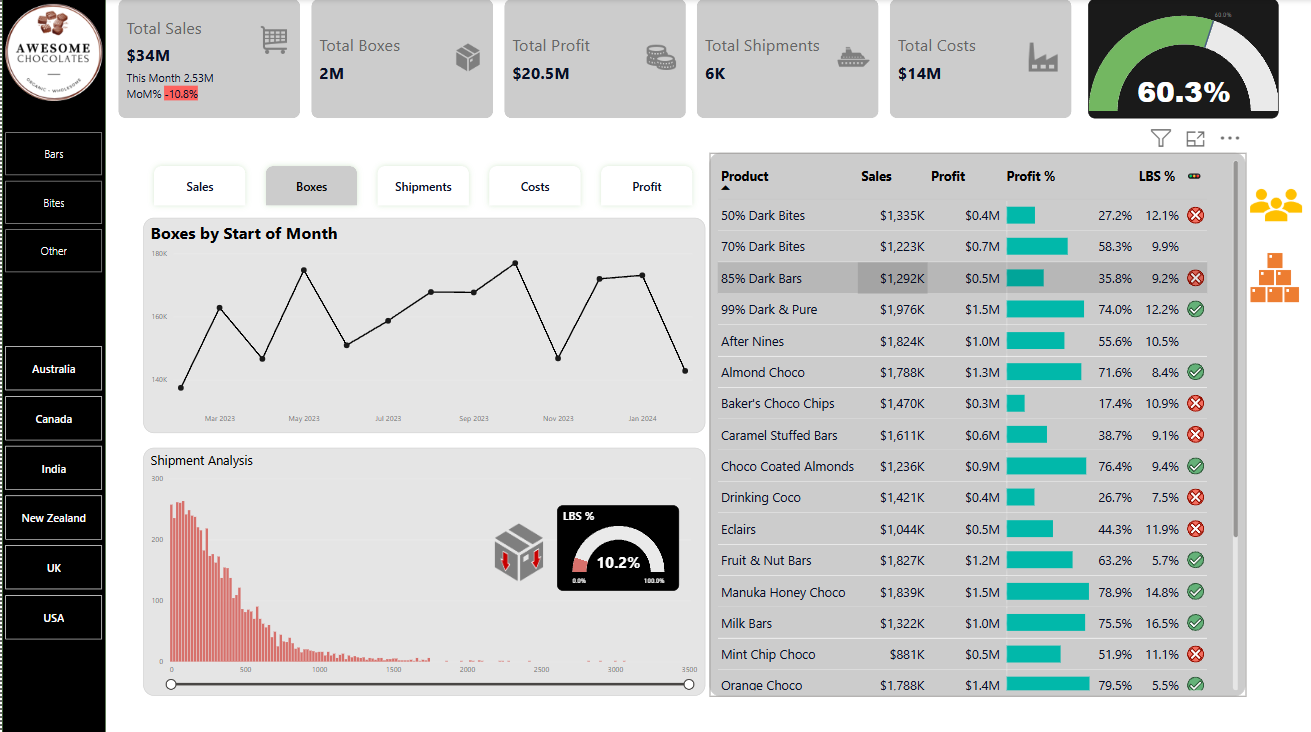

This screenshot's page, from the dashboard's own definition file:
{"tool":"powerbi","page":{"name":"Page 2","canvas":[1920,1080],"ordinal":1},"visuals":[{"type":"shape","box":[0,0,152.3,1079.5],"z":0},{"type":"cardVisual","fields":{"Data":["Measuress.Total Sales","Measuress.Total Boxes","Measuress.Total Profit","Measuress.Total Shipments","Measuress.Total Costs"]},"box":[170.5,0,1400,175],"z":1000},{"type":"gauge","fields":{"Y":["Measuress.Profit %"]},"box":[1593.2,0,279.5,175],"z":2000},{"type":"image","box":[0,0,152.3,156.8],"z":3000},{"type":"lineChart","fields":{"Y":["Measuress.Total Boxes"],"Category":["calendar.Start of Month"]},"box":[206.8,320.5,825,315.9],"z":4000},{"type":"advancedSlicerVisual","fields":{"Values":["Measure_Selector.Measure_Selector"]},"box":[206.8,229.5,825,90.9],"z":5000},{"type":"columnChart","title":"Shipment Analysis","fields":{"Category":["shipments.Boxes (bins)"],"Y":["Measuress.Total Shipments"]},"box":[206.8,659.1,825,363.6],"z":6000},{"type":"gauge","fields":{"Y":["Measuress.LBS %"]},"box":[814.3,742.2,178.9,125.5],"z":7000},{"type":"image","box":[702.1,755.5,112.1,112.1],"z":8000},{"type":"image","title":"people","box":[1822.2,246.7,97.4,110.4],"z":10000},{"type":"image","title":"product","box":[1815.7,357.1,103.9,101.7],"z":11000},{"type":"tableEx","title":"Product Details","fields":{"Values":["products.Product","Measuress.Total Sales","Measuress.Total Profit","Measuress.Profit %","Measuress.LBS %","Measuress.Profit Target Indicator"]},"box":[1038.6,225,786.4,797.7],"z":12000},{"type":"advancedSlicerVisual","fields":{"Values":["products.Category"]},"box":[0,190.9,152.3,215.9],"z":13000},{"type":"advancedSlicerVisual","fields":{"Values":["shipments.Geography"]},"box":[0,504.5,152.3,445.5],"z":13001}]}

Visuals, with their boxes on the page's 1920x1080 design canvas (x1, y1, x2, y2). These are canvas units, not pixel positions in the 1311x732 screenshot, which may show the page scaled, cropped or inside an application window:
shape: crop(0, 0, 152, 1080)
cardVisual - Measuress.Total Sales x Measuress.Total Boxes: crop(170, 0, 1570, 175)
gauge - Measuress.Profit %: crop(1593, 0, 1873, 175)
image: crop(0, 0, 152, 157)
lineChart - Measuress.Total Boxes x calendar.Start of Month: crop(207, 320, 1032, 636)
advancedSlicerVisual - Measure_Selector.Measure_Selector: crop(207, 230, 1032, 320)
"Shipment Analysis" columnChart: crop(207, 659, 1032, 1023)
gauge - Measuress.LBS %: crop(814, 742, 993, 868)
image: crop(702, 756, 814, 868)
"people" image: crop(1822, 247, 1920, 357)
"product" image: crop(1816, 357, 1920, 459)
"Product Details" tableEx: crop(1039, 225, 1825, 1023)
advancedSlicerVisual - products.Category: crop(0, 191, 152, 407)
advancedSlicerVisual - shipments.Geography: crop(0, 504, 152, 950)
